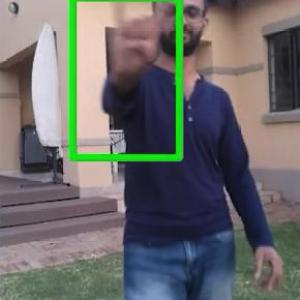takeoff-hand: (103, 0, 172, 92)
